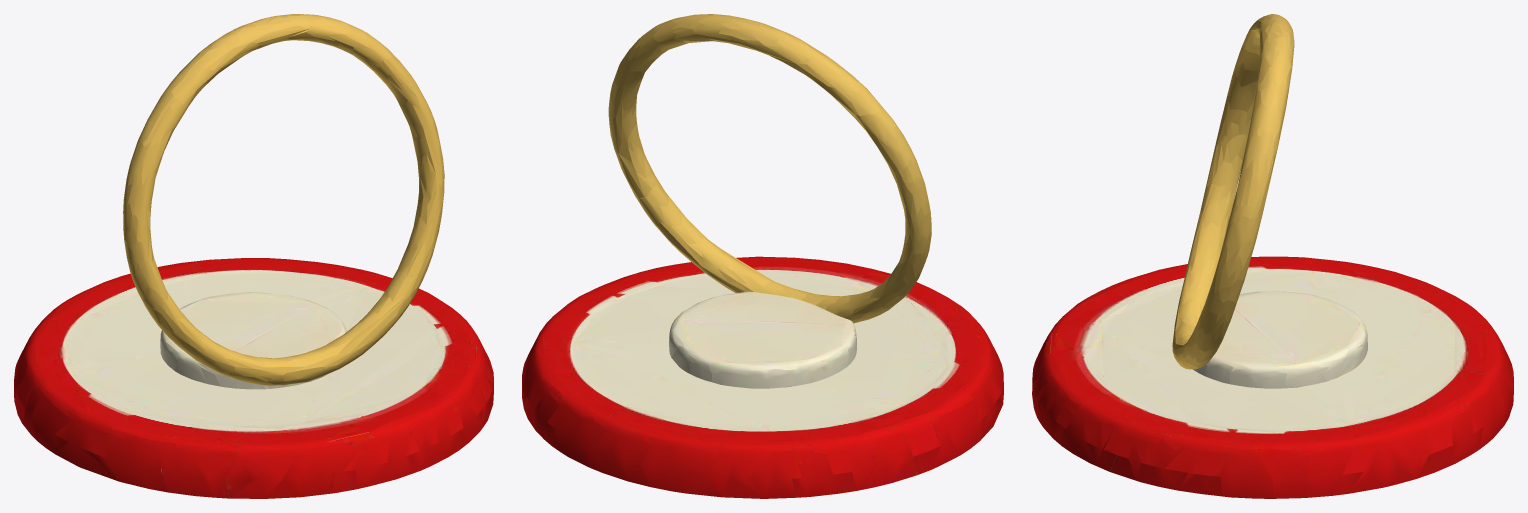
File: spring_pad.glb
The picture shows the model from 3 angles, left to right: view 1: azimuth 30°, elevation 25°; view 2: azimuth 150°, elevation 25°; view 3: azimuth 270°, elevation 25°; orthographic projection.
Size of the model in its own units: 1.9 by 1.63 by 1.9.
Materials: 1 (1 with a texture image).
